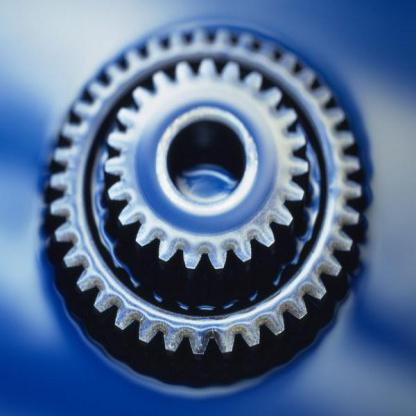FOD: (43, 20, 370, 362), (101, 53, 312, 274)
